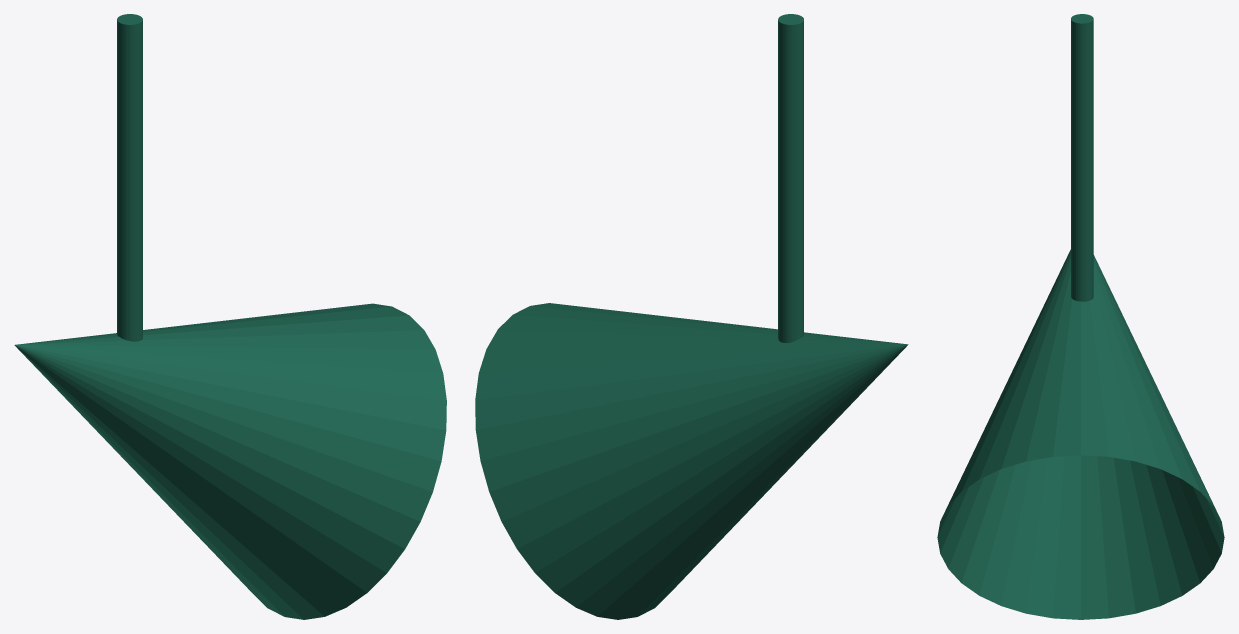
The model's file is Spot.gltf.
3 views of the same model, side by side, from view 1: azimuth 30°, elevation 25°; view 2: azimuth 150°, elevation 25°; view 3: azimuth 270°, elevation 25° (orthographic). The views are drawn at different scales.
Visible parts, largest first — view 1: Lux_Cone2.003; view 2: Lux_Cone2.003; view 3: Lux_Cone2.003.
Part boxes in pixels (<box>): Lux_Cone2.003: <box>14,14,446,619</box>; Lux_Cone2.003: <box>475,14,908,619</box>; Lux_Cone2.003: <box>937,14,1224,619</box>.
Bounding box in the file's own units: 1.24 × 1.87 × 0.8945.
